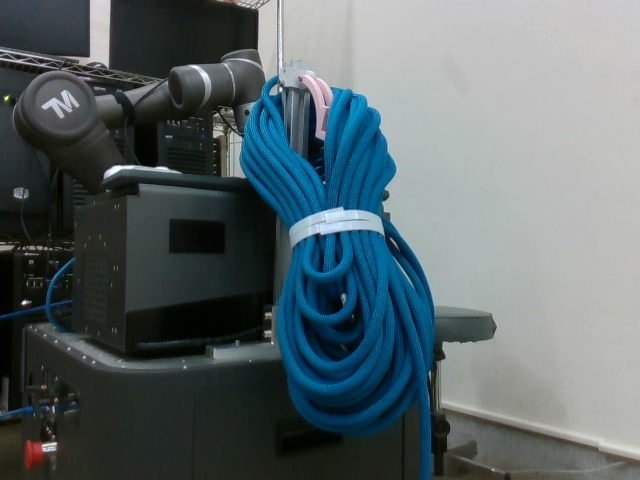rope: (239, 75, 438, 429)
